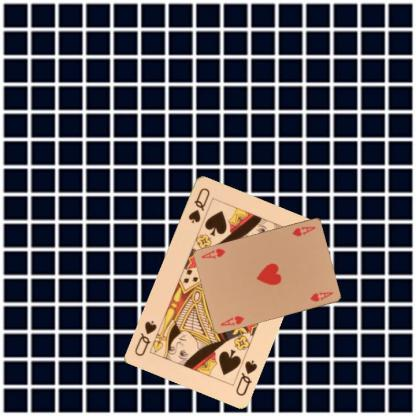Ah: (290, 223, 317, 238), (218, 313, 245, 327)
Qs: (185, 185, 211, 224), (233, 357, 258, 397)
